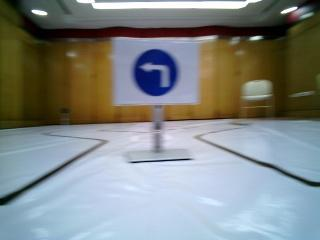left: (120, 45, 193, 99)
